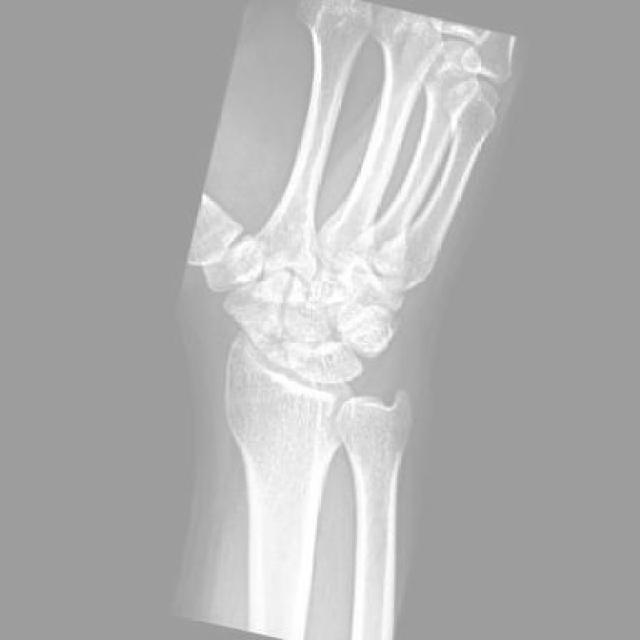Fracture: (246, 316, 305, 370)
